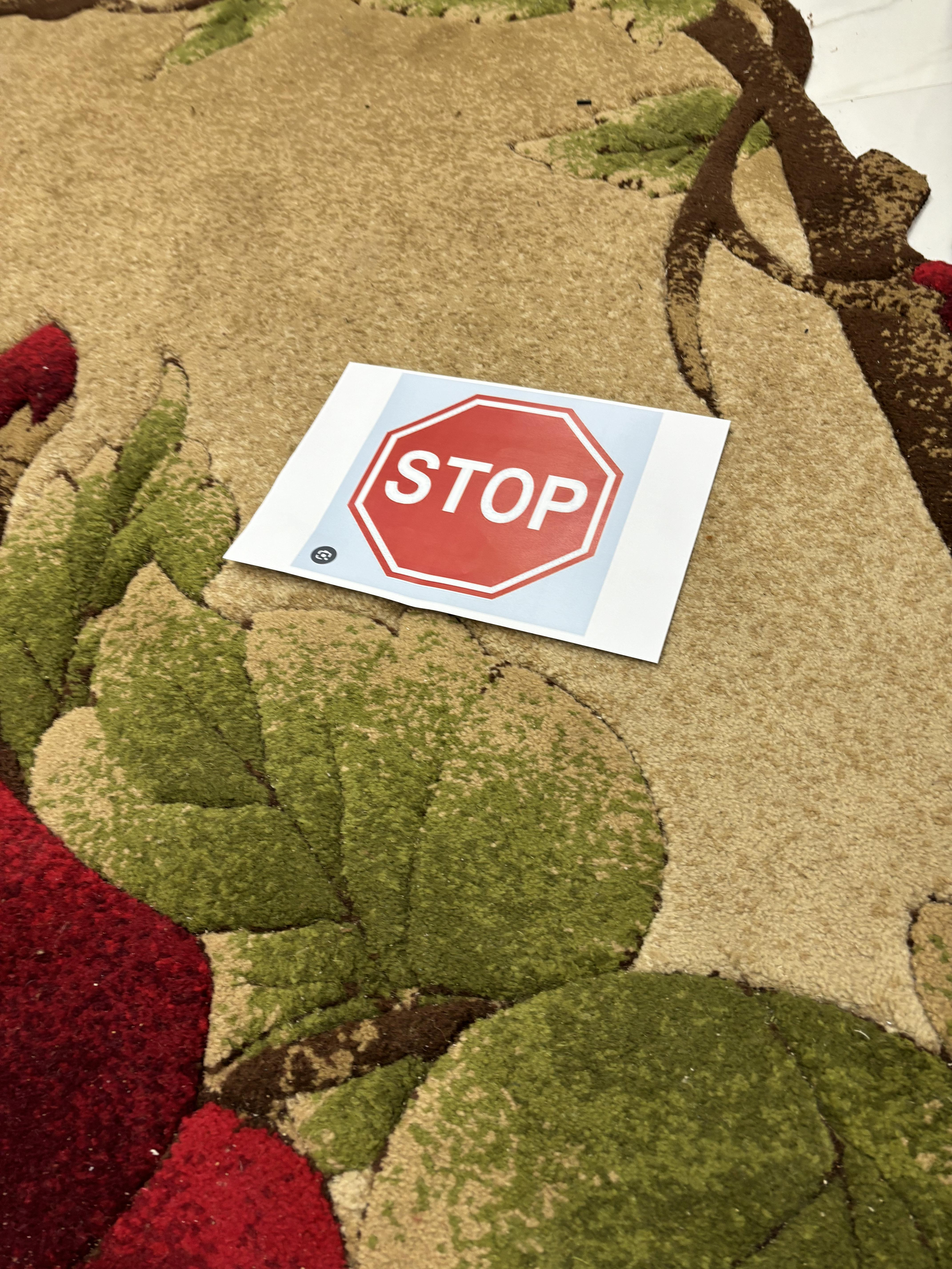Stop: (349, 380, 634, 607)
